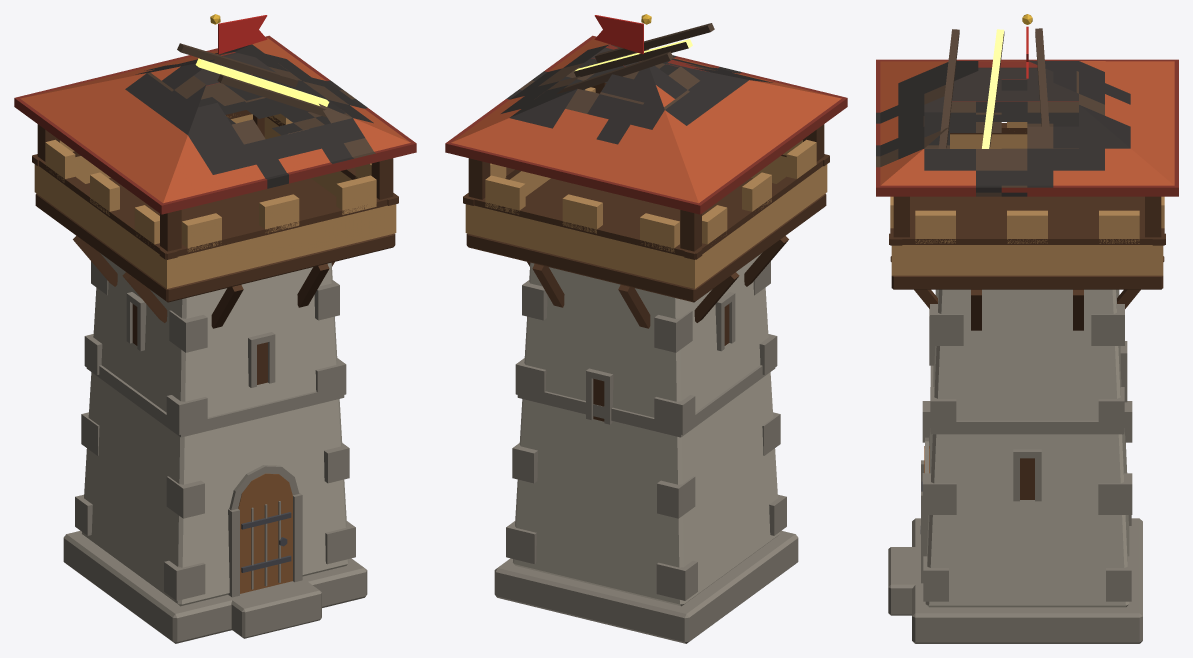
File: Wachturm_Beschaedigt.fbx
3 views of the same model, side by side, from view 1: azimuth 30°, elevation 25°; view 2: azimuth 150°, elevation 25°; view 3: azimuth 270°, elevation 25° (orthographic). The views are drawn at different scales.
Parts seen in each view (by area): view 1: Wachturm_Beschaedigt; view 2: Wachturm_Beschaedigt; view 3: Wachturm_Beschaedigt.
Boxes of the visible parts, left/top/right/bottom form: Wachturm_Beschaedigt: left=14, top=14, right=416, bottom=643; Wachturm_Beschaedigt: left=445, top=14, right=847, bottom=643; Wachturm_Beschaedigt: left=876, top=14, right=1178, bottom=643.
Bounding box in the file's own units: 4.45 × 9.46 × 4.45.
